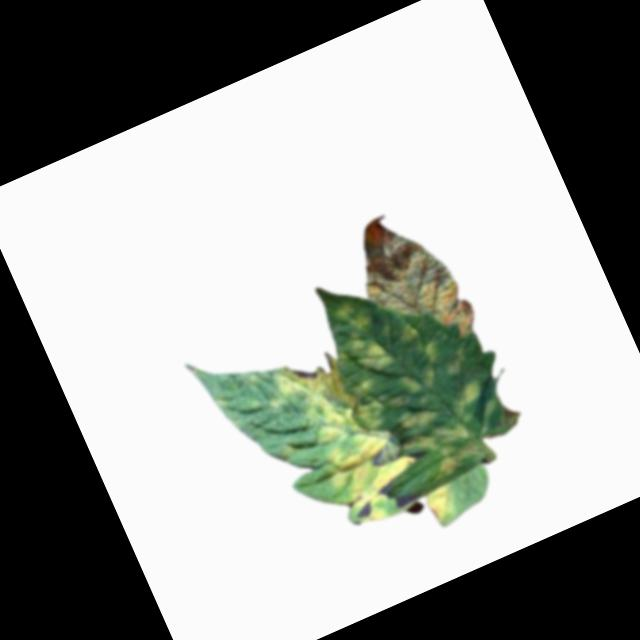Leaf_Mold: (300, 238, 534, 507), (257, 333, 432, 543), (339, 196, 481, 363), (421, 481, 457, 523)
